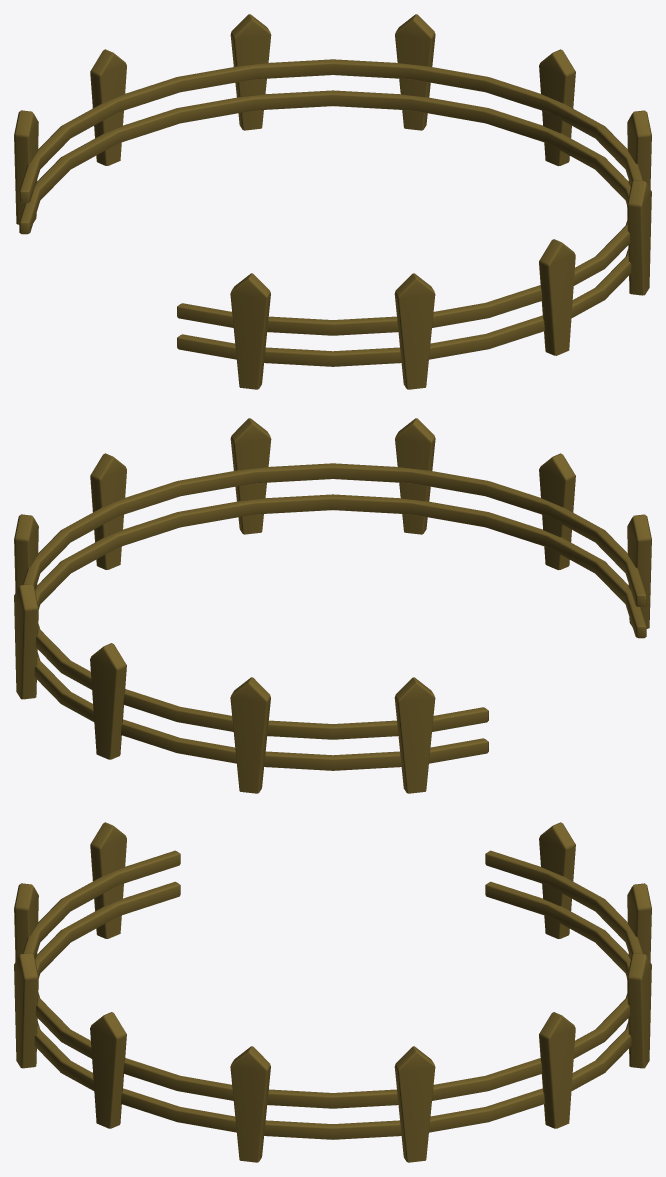
Rendered from Barrier.fbx.
3 views of the same model, one above another, from view 1: azimuth 30°, elevation 25°; view 2: azimuth 150°, elevation 25°; view 3: azimuth 270°, elevation 25° (orthographic).
Parts seen in each view (by area): view 1: Barrier; view 2: Barrier; view 3: Barrier.
Boxes of the visible parts, left/top/right/bottom form: Barrier: left=14, top=14, right=651, bottom=389; Barrier: left=14, top=418, right=651, bottom=793; Barrier: left=14, top=822, right=651, bottom=1162.
Bounding box in the file's own units: 465 × 95.5 × 503.
